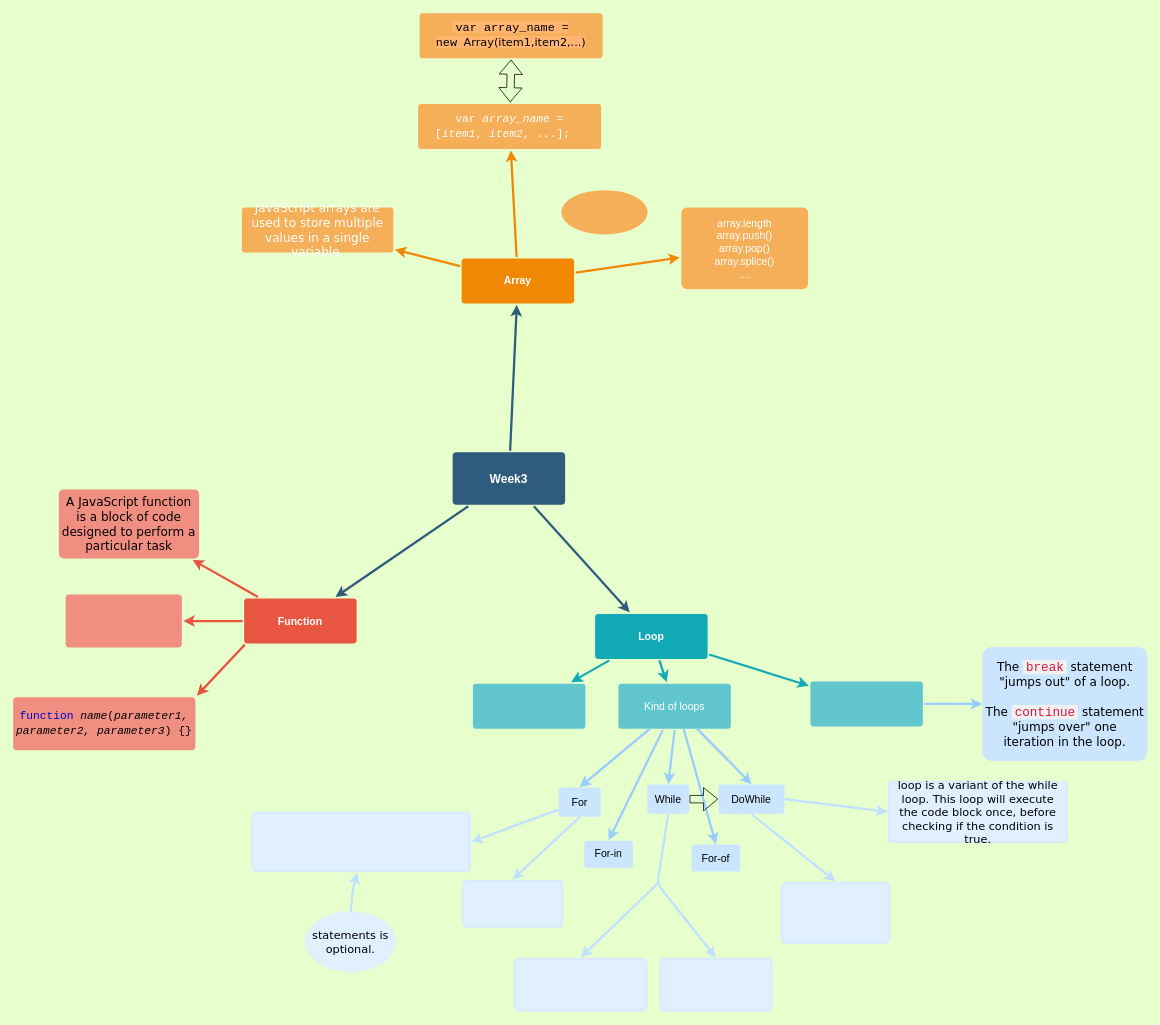
This 1160x1025 diagram has some shape labels left out. The shapes that lost their labels are listed below. From the top down, each one's centre as x and y in pixels, then its label:
the point at 604,212: Typeof an Array = object
the point at 123,620: executed when "something" invokes it (calls it).
the point at 528,705: Loops are handy If you want to run a same code
the point at 866,703: Break/Countinue
the point at 361,841: for ( statement 1 ; statement 2 ; statement 3 ) {}
the point at 512,903: loops through a block of code a number of times
the point at 835,912: also loops through a block of code while a specified condition is true
the point at 580,984: while ( condition ) { }
the point at 715,984: loops through a block of code while a specified condition is true
